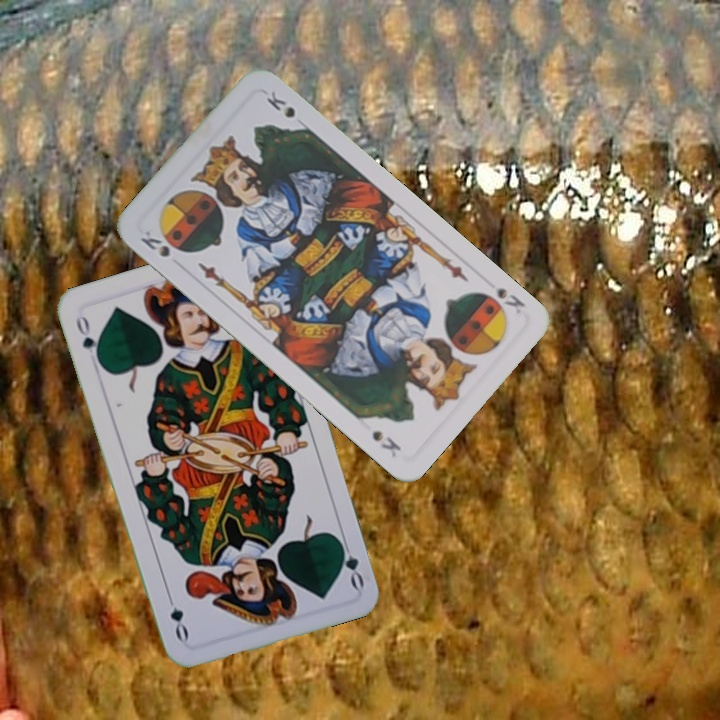GO: (333, 533, 367, 592), (72, 310, 104, 367)
SK: (136, 226, 173, 260), (493, 283, 528, 317)
